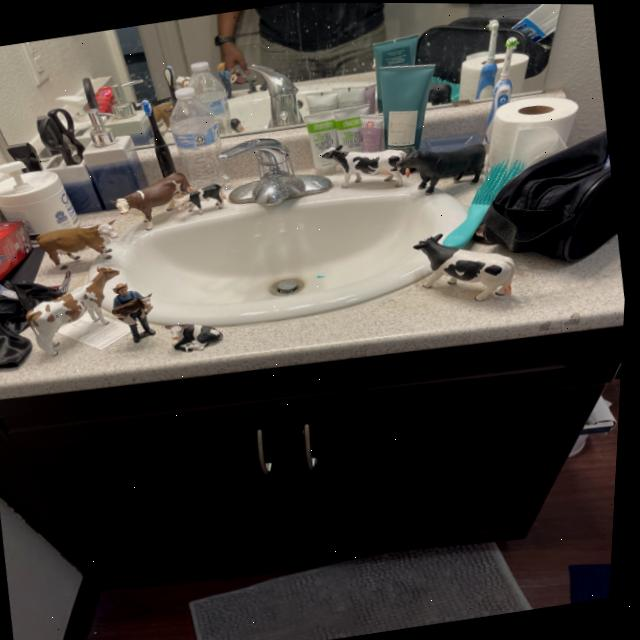cow: (24, 260, 142, 360), (407, 228, 524, 308), (116, 165, 203, 239), (396, 134, 494, 199), (38, 220, 124, 271), (321, 147, 408, 189), (174, 182, 229, 220), (111, 294, 161, 331), (168, 322, 227, 353)
person: (111, 276, 148, 307)
